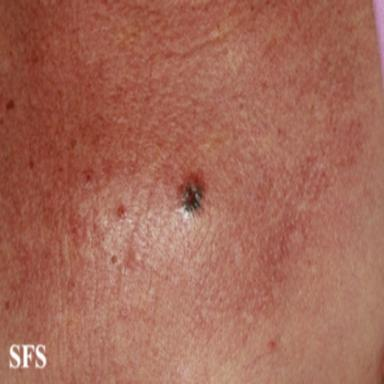basal-cell-carcinoma: (179, 171, 206, 216)
